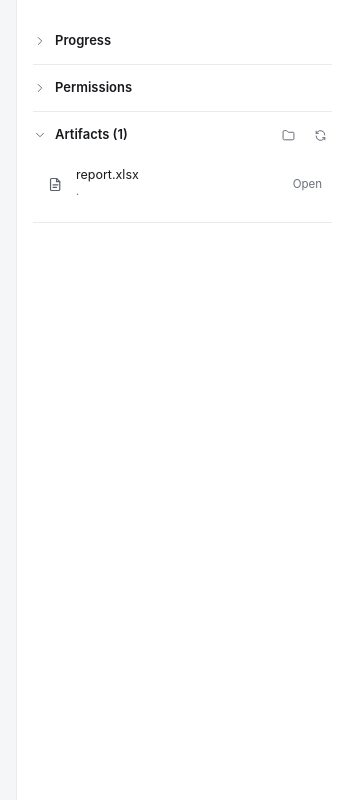
SheetViewer renders server-side sheet JSON › shows a row-cap note for truncated sheets
The width and height of the screenshot is (348, 800).
Step 1. Click the button "report.xlsx · Open" → (107, 174), box [33,157,332,211]
(page scrolled)
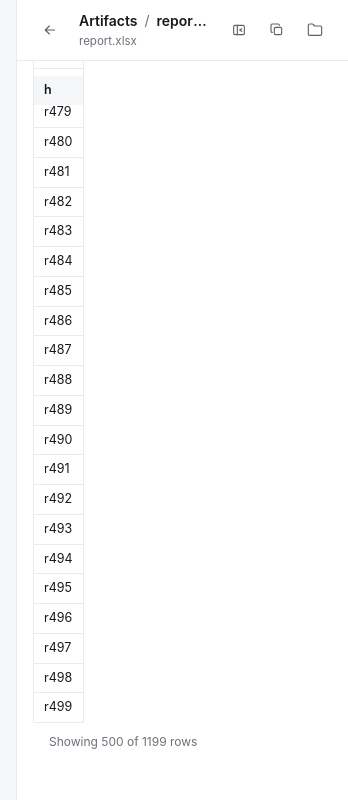
expect the text "r499" is shown: met, box [34,693,83,723]
expect the text "Showing 500 of 1199 rows" is shown: met, box [49,734,198,749]
